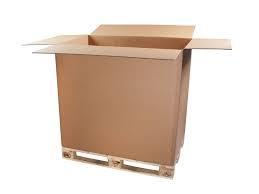box: (21, 25, 232, 180)
